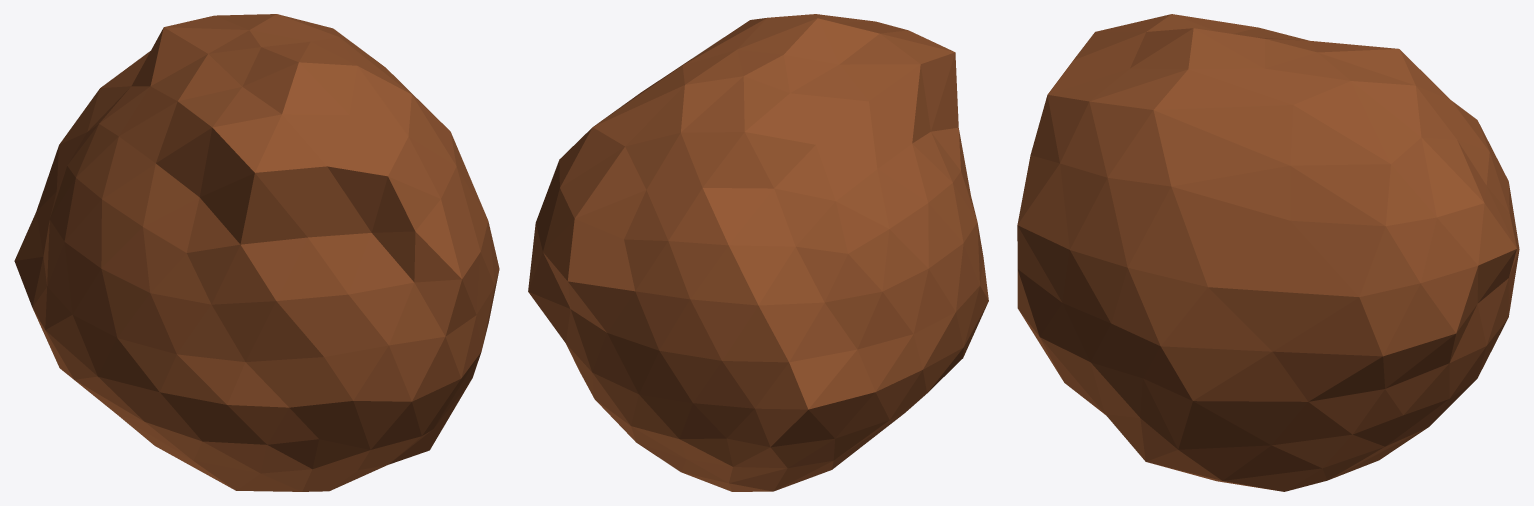
3 renders of one model, left to right at view 1: azimuth 30°, elevation 25°; view 2: azimuth 150°, elevation 25°; view 3: azimuth 270°, elevation 25°, orthographic. The views are drawn at different scales.
Visible parts, largest first — view 1: Icosphere; view 2: Icosphere; view 3: Icosphere.
Boxes of the visible parts, x1=… form: Icosphere: x1=14, y1=14, x2=499, y2=491; Icosphere: x1=528, y1=14, x2=988, y2=491; Icosphere: x1=1017, y1=14, x2=1519, y2=491.
Bounding box in the file's own units: 197 × 219 × 228.
